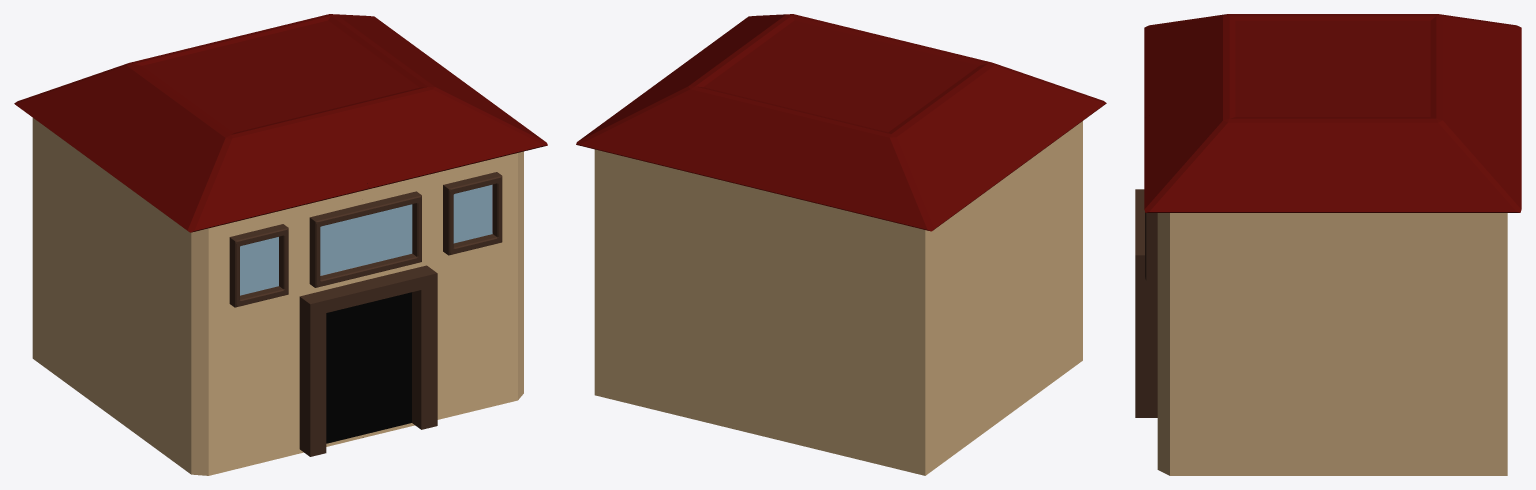
File: House2.fbx
3 renders of one model, left to right at view 1: azimuth 30°, elevation 25°; view 2: azimuth 150°, elevation 25°; view 3: azimuth 270°, elevation 25°, orthographic. The views are drawn at different scales.
Visible parts, largest first — view 1: Cube.014; view 2: Cube.014; view 3: Cube.014.
Boxes of the visible parts, <box> form: Cube.014: <box>14,14,547,475</box>; Cube.014: <box>576,14,1106,475</box>; Cube.014: <box>1135,14,1521,475</box>.
Bounding box in the file's own units: 2919 × 2349 × 2552.
1 material, 1 textured.
